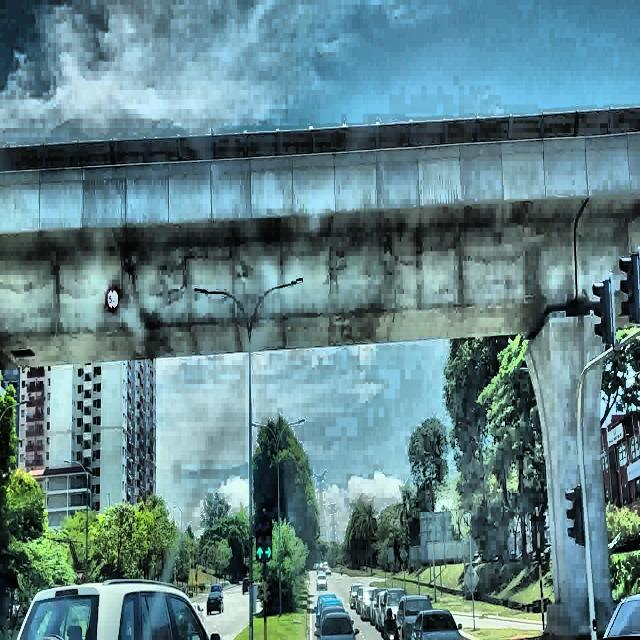green: (264, 515, 272, 561), (256, 515, 263, 562)
